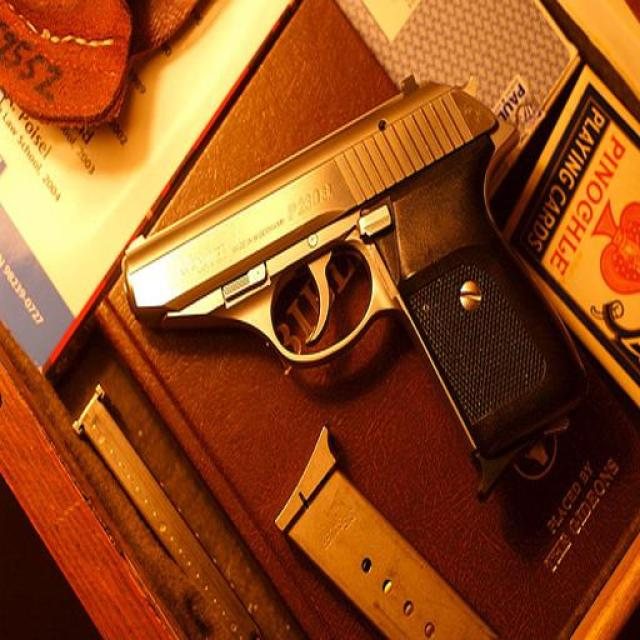pistol: (116, 69, 582, 490)
